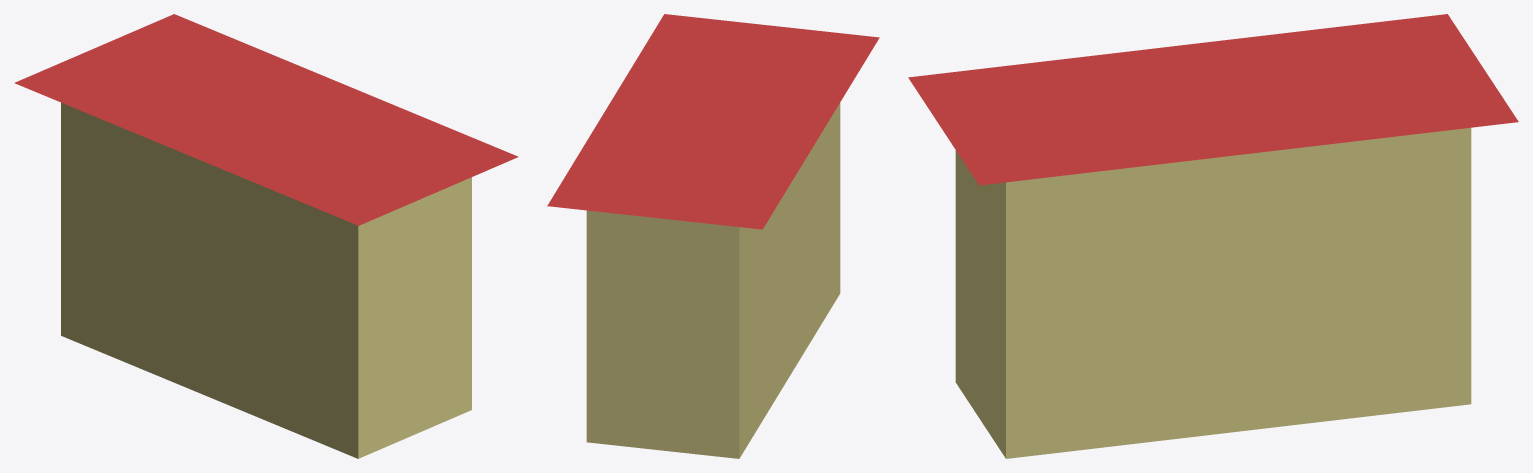
The picture shows the model from 3 angles, left to right: view 1: azimuth 30°, elevation 25°; view 2: azimuth 150°, elevation 25°; view 3: azimuth 270°, elevation 25°; orthographic projection. The views are drawn at different scales.
Size of the model in its own units: 7.87 by 11.84 by 6.28.
